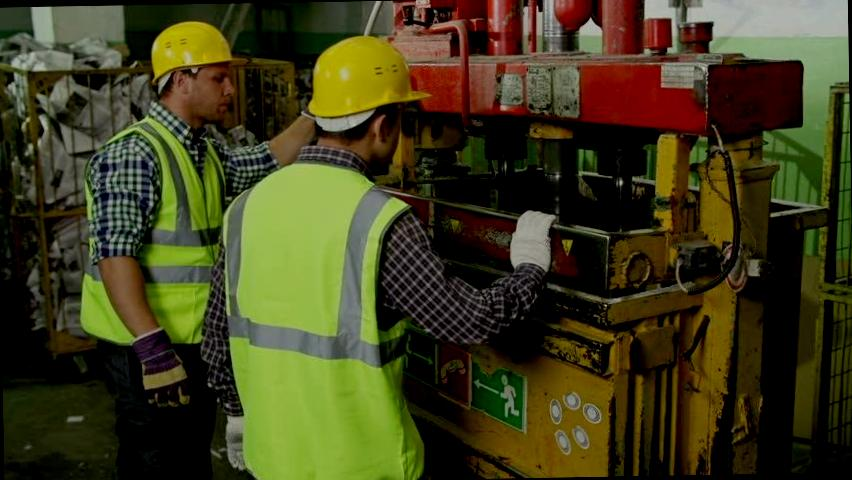helmet: (293, 32, 434, 127), (143, 17, 237, 92)
person: (228, 31, 445, 480), (73, 18, 250, 456)
